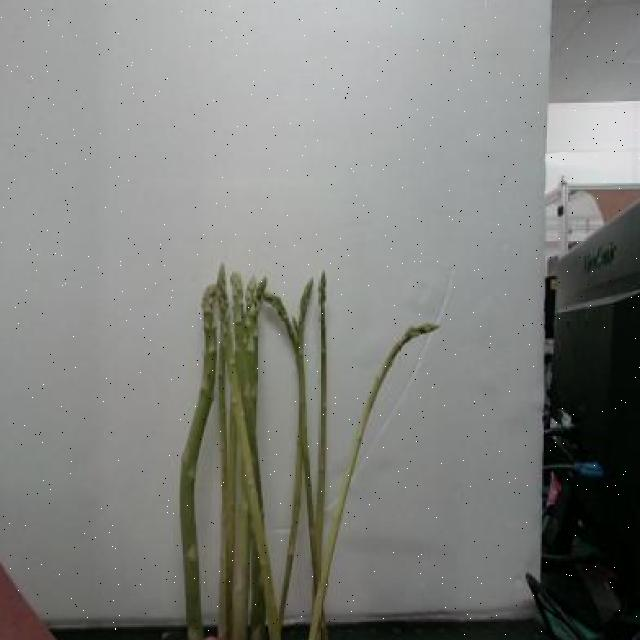aspargus: (181, 275, 229, 640)
